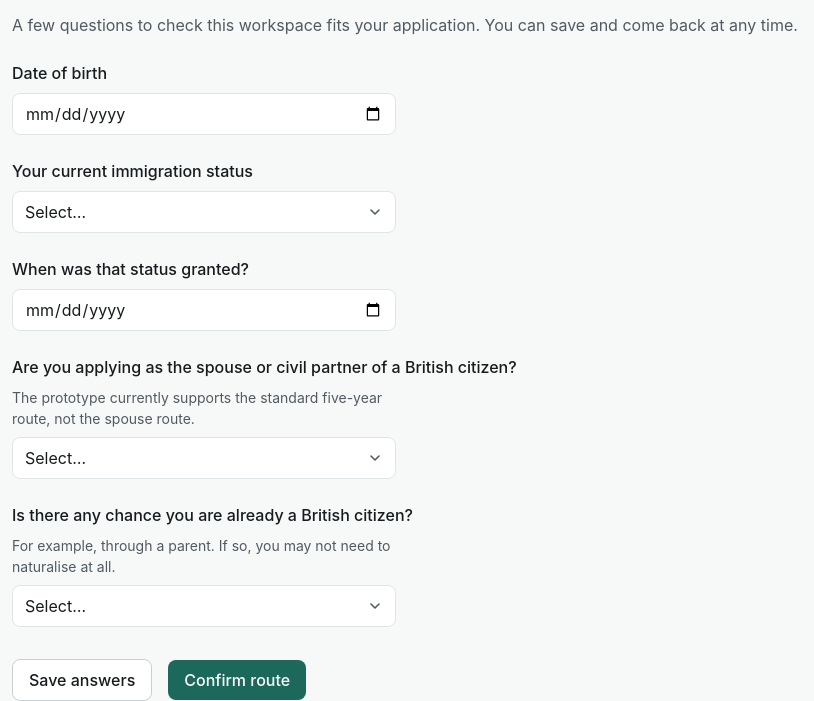
Test: RouteOnboarding › surfaces a conflict when the draft changed elsewhere
(page scrolled)
Click the button "Save answers": {"x": 82, "y": 680} [12, 659, 152, 700]
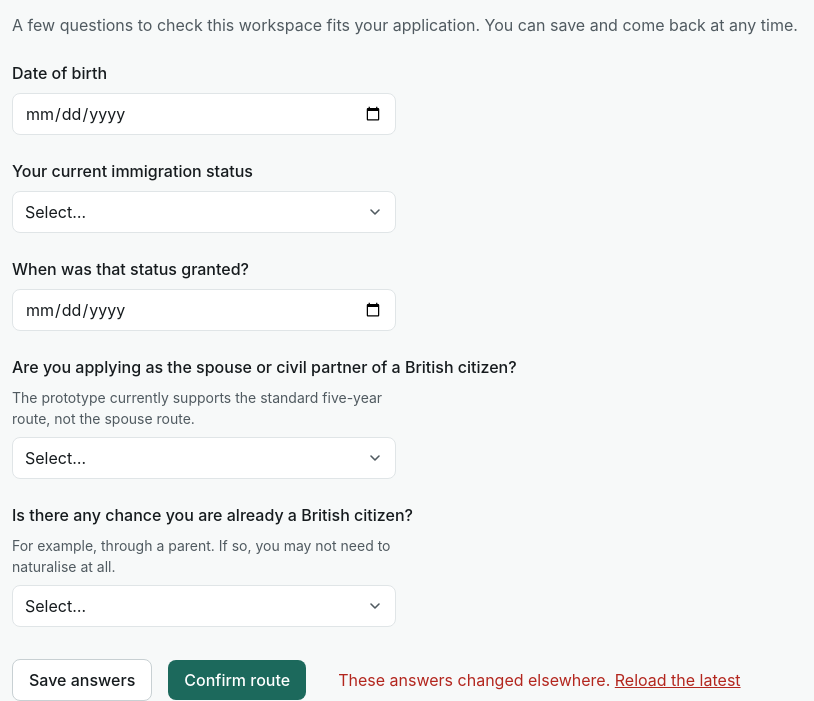
Expected: the message shows "changed elsewhere", [338, 670, 610, 690]
